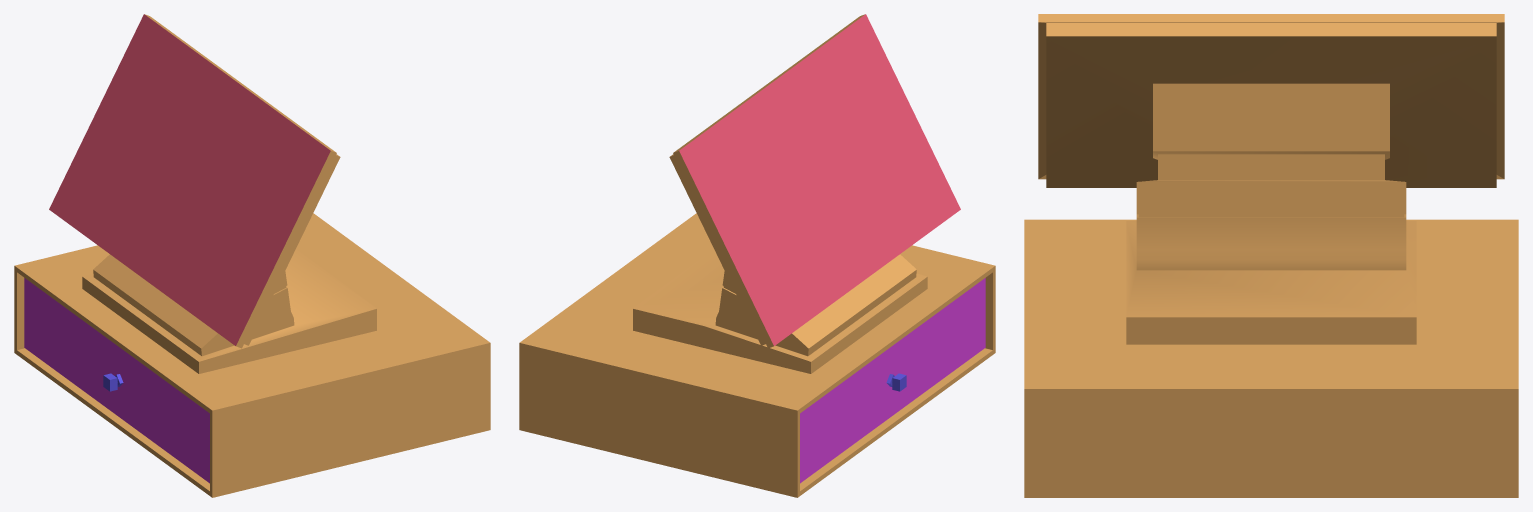
File: CashRegister.fbx
3 renders of one model, left to right at view 1: azimuth 30°, elevation 25°; view 2: azimuth 150°, elevation 25°; view 3: azimuth 270°, elevation 25°, orthographic. The views are drawn at different scales.
Parts seen in each view (by area): view 1: CashRegisterBody_Export, CashShelf_Export; view 2: CashRegisterBody_Export, CashShelf_Export; view 3: CashRegisterBody_Export.
Part boxes in pixels (x1,y1,x2,y2): CashRegisterBody_Export: [14, 14, 490, 497]; CashShelf_Export: [24, 278, 209, 483]; CashRegisterBody_Export: [519, 14, 995, 497]; CashShelf_Export: [800, 278, 985, 483]; CashRegisterBody_Export: [1024, 14, 1518, 497].
Size of the model in its own units: 45.33 by 47.57 by 54.58.
